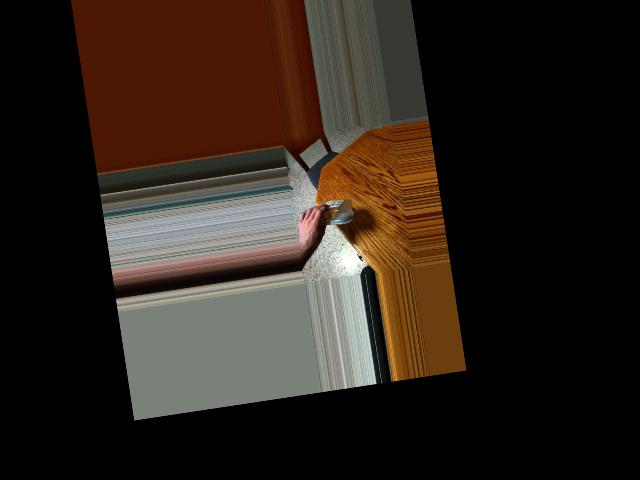cheese: (309, 190, 360, 237)
